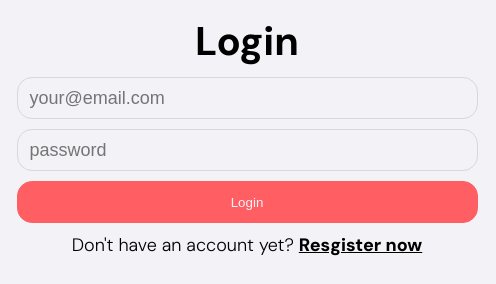
LoginForm › shows an error message when the server returns an error
The width and height of the screenshot is (496, 284).
Type "bad@example.com" into the field with placeholder "your@email.com" at [247, 98], box [16,77,478,119]
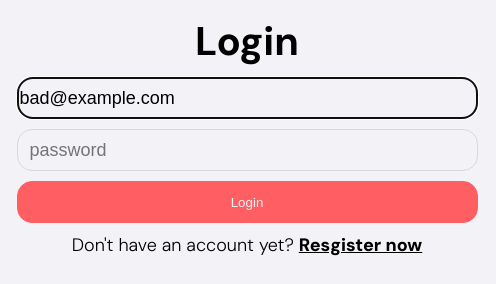
Type "wrongpass" into the password field with placeholder "password" at [247, 150], box [16,129,478,171]
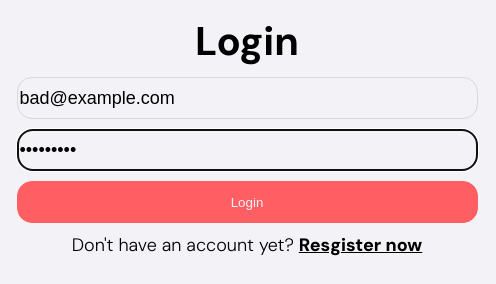
Click the button "Login" at [247, 202], box [16,181,478,223]
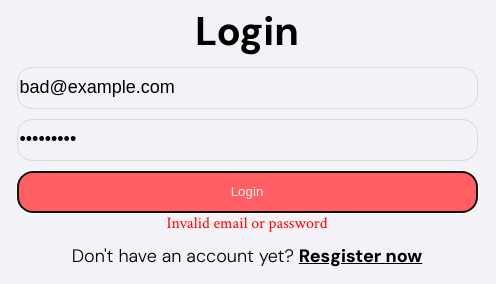
Expected: the text "Invalid email or password" is shown, [166,212,328,234]
